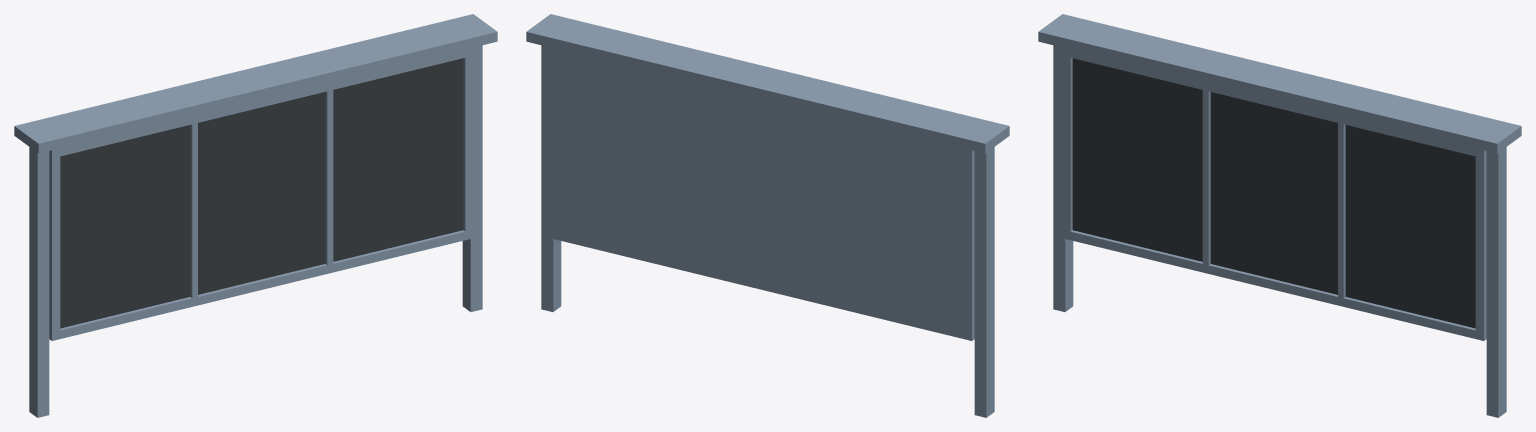
Rendered from glass_board.glb.
The picture shows the model from 3 angles, left to right: view 1: azimuth 30°, elevation 25°; view 2: azimuth 150°, elevation 25°; view 3: azimuth 330°, elevation 25°; orthographic projection.
Visible parts, largest first — view 1: glass_board; view 2: glass_board; view 3: glass_board.
Boxes of the visible parts, <box> form: glass_board: <box>14,14,497,417</box>; glass_board: <box>526,14,1009,417</box>; glass_board: <box>1038,14,1521,417</box>.
Size of the model in its own units: 3.92 by 2.3 by 0.36.
